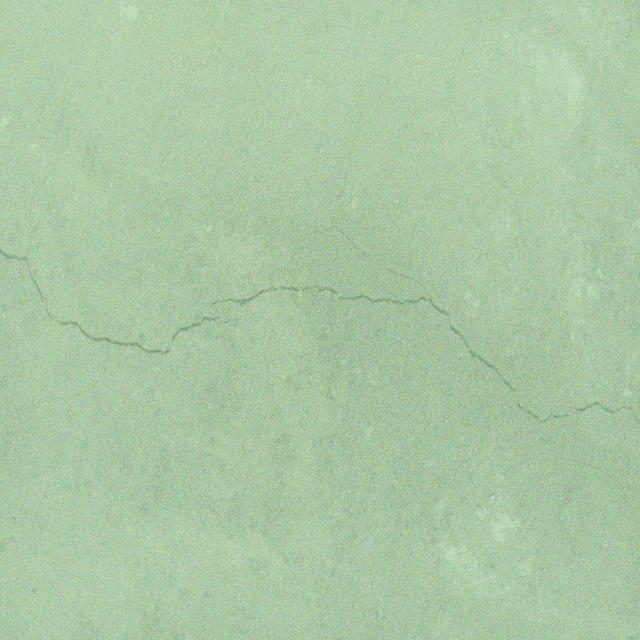crack: (206, 110, 640, 425), (0, 248, 240, 356), (448, 0, 481, 90), (560, 459, 639, 492)
